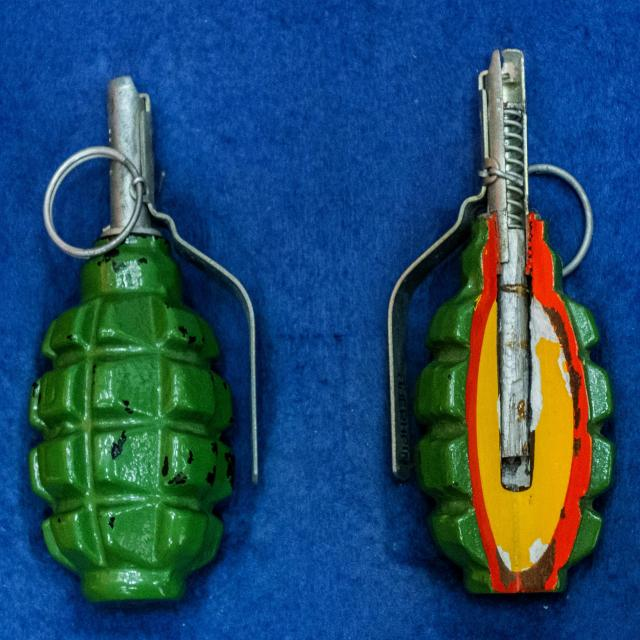grenade: (388, 48, 615, 599), (29, 77, 258, 599)
